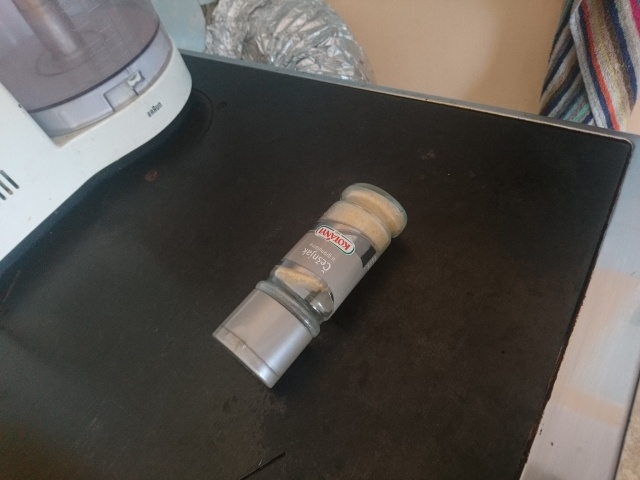Kotanyi Garlic Granules 70g: (208, 179, 410, 391)
